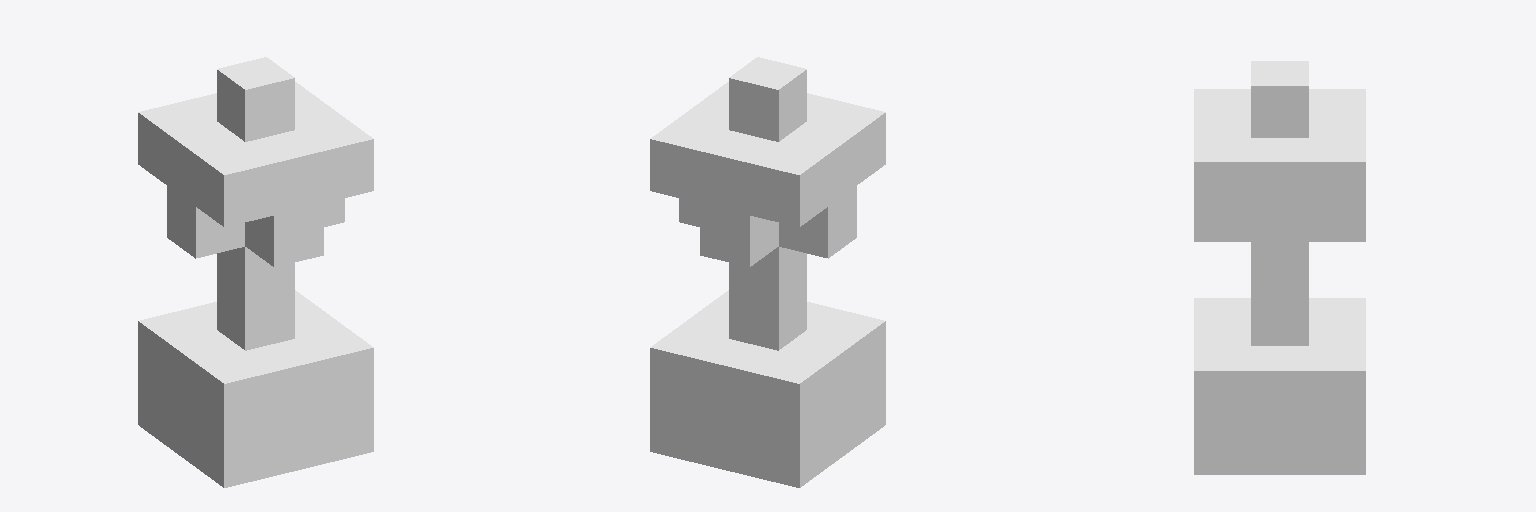
File: flowerYellow.obj
The picture shows the model from 3 angles: view 1: azimuth 30°, elevation 25°; view 2: azimuth 150°, elevation 25°; view 3: azimuth 270°, elevation 25°; orthographic projection.
Parts seen in each view (by area): view 1: object 1; view 2: object 1; view 3: object 1.
Boxes of the visible parts, x1=… form: object 1: x1=138, y1=57, x2=373, y2=487; object 1: x1=650, y1=57, x2=885, y2=487; object 1: x1=1194, y1=61, x2=1365, y2=474.
Size of the model in its own units: 0.3 by 0.7 by 0.3.